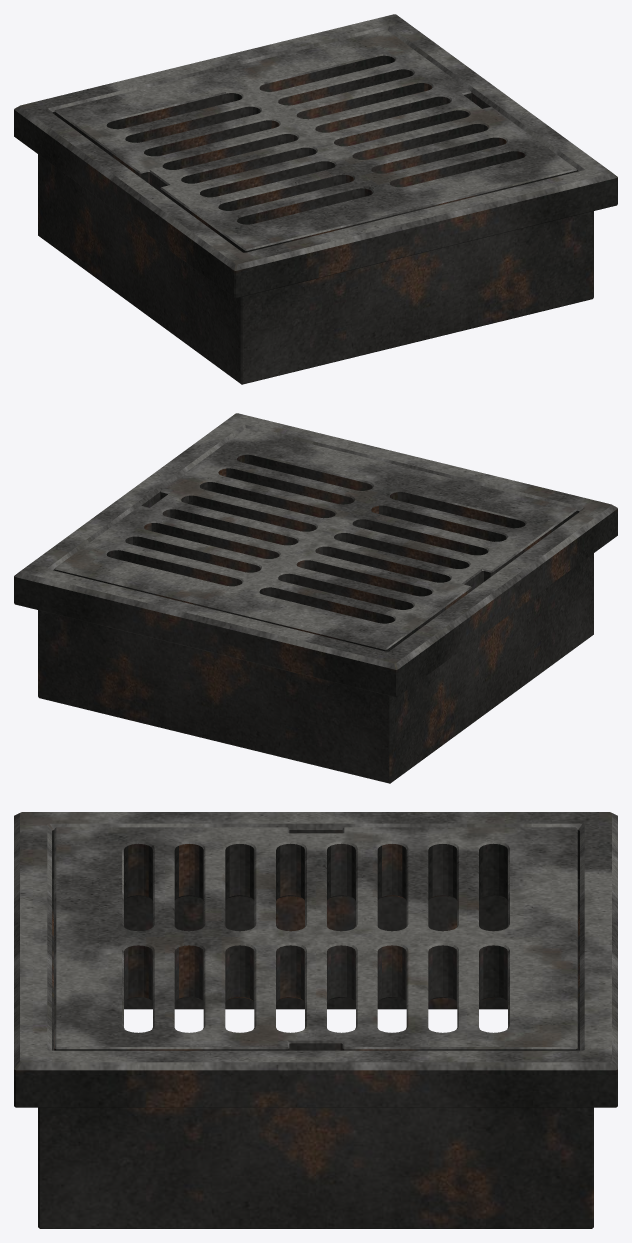
Rendered from gully.glb.
3 renders of one model, top to bottom at view 1: azimuth 30°, elevation 25°; view 2: azimuth 150°, elevation 25°; view 3: azimuth 270°, elevation 25°, orthographic. The views are drawn at different scales.
Visible parts, largest first — view 1: storm-drain_frame, storm-drain_grate; view 2: storm-drain_frame, storm-drain_grate; view 3: storm-drain_frame, storm-drain_grate.
Part boxes in pixels (<box>): storm-drain_frame: <box>14,14,617,384</box>; storm-drain_grate: <box>54,29,577,252</box>; storm-drain_frame: <box>14,413,617,783</box>; storm-drain_grate: <box>54,428,577,651</box>; storm-drain_frame: <box>14,812,617,1228</box>; storm-drain_grate: <box>54,827,577,1050</box>.
Size of the model in its own units: 0.5 by 0.16 by 0.5.
2 materials, 2 textured.
